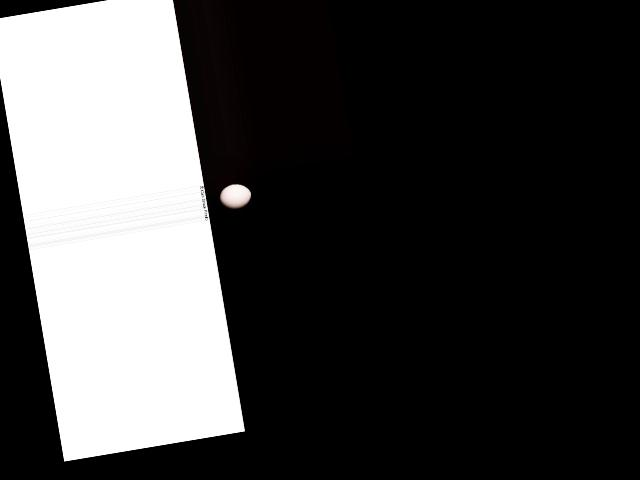egg: (217, 182, 252, 211)
